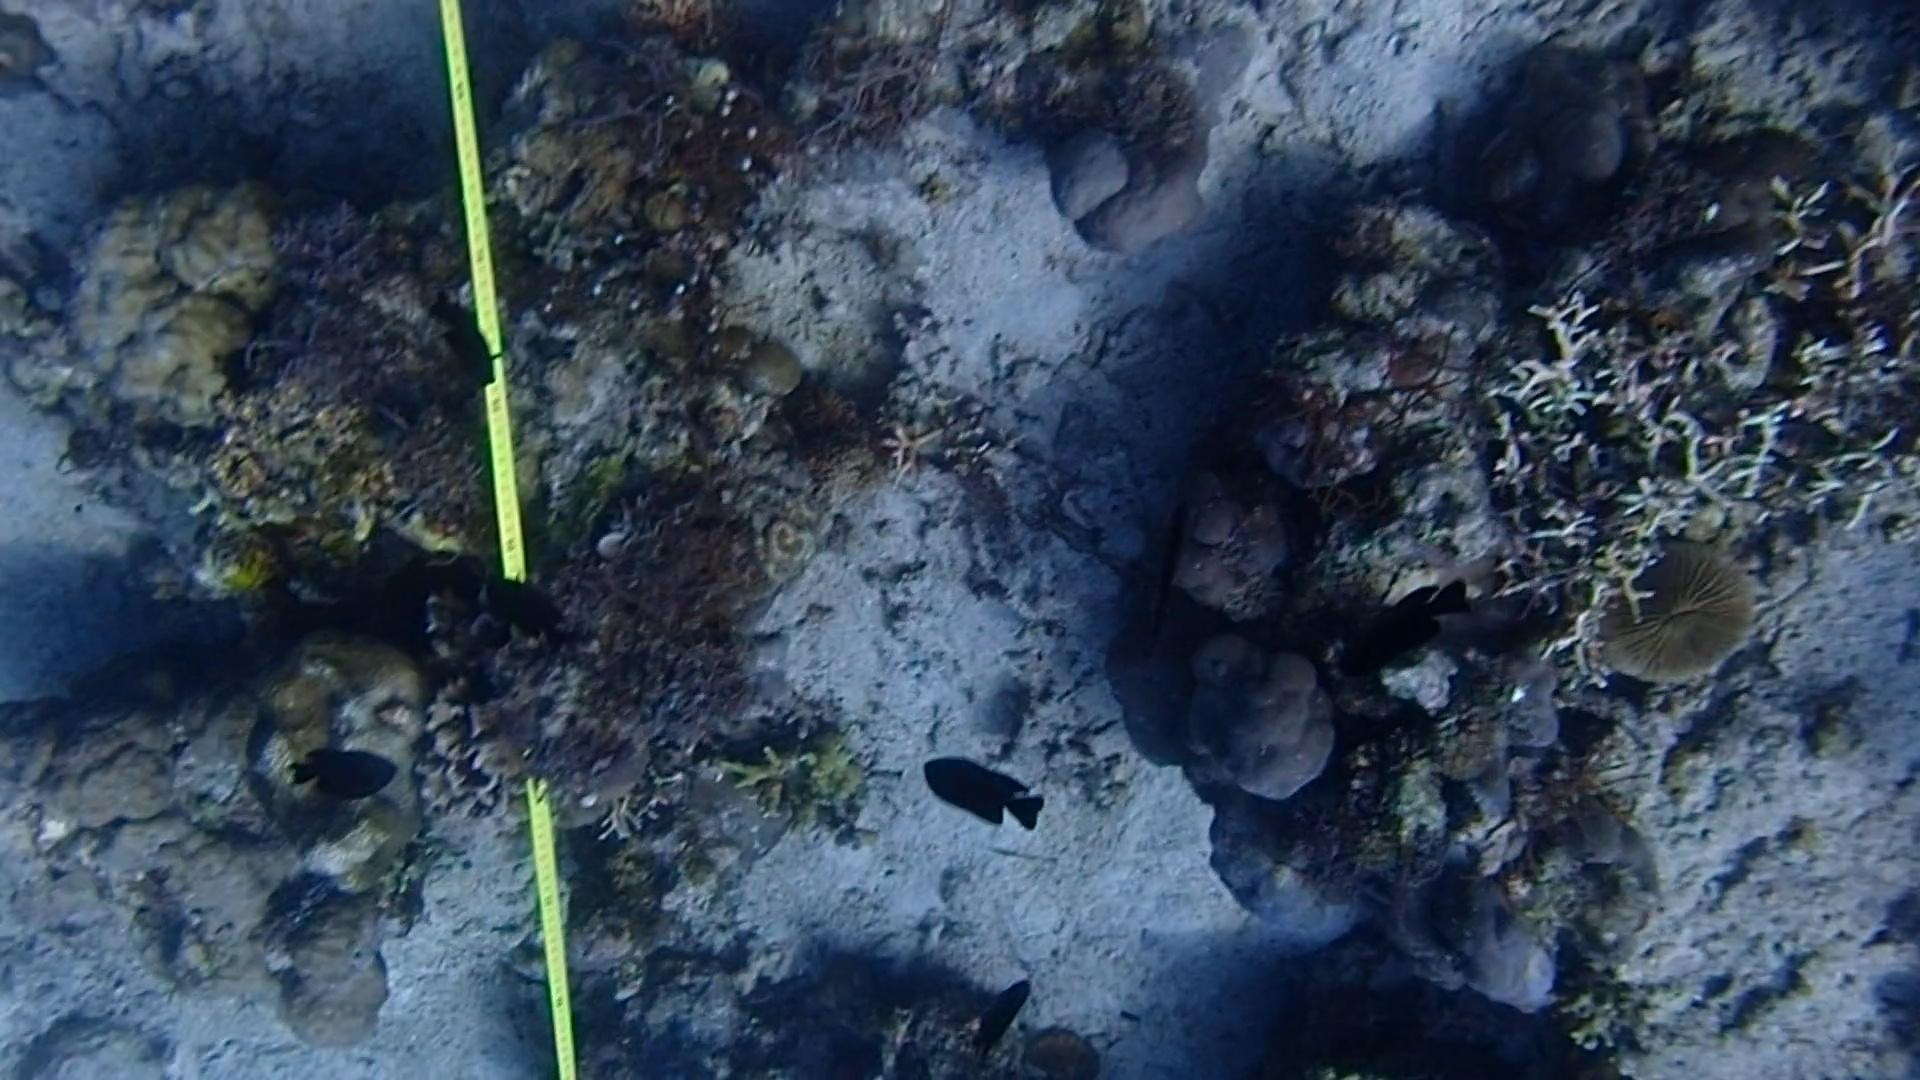Dark Fish: (1327, 572, 1474, 687), (916, 744, 1064, 837), (274, 725, 400, 807), (421, 290, 512, 400), (963, 973, 1052, 1075), (485, 567, 575, 647), (1141, 493, 1197, 607)
